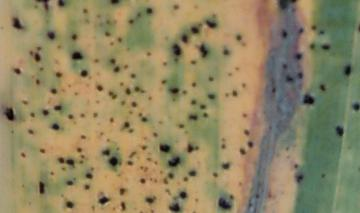tarspot: (217, 197, 231, 210), (11, 16, 23, 30), (4, 107, 15, 122), (35, 1, 50, 12), (167, 155, 180, 166), (172, 42, 182, 56), (303, 94, 315, 105), (37, 180, 46, 194), (71, 51, 83, 61), (200, 43, 208, 58), (334, 125, 344, 137), (158, 144, 171, 153), (108, 156, 118, 166), (206, 19, 217, 28), (169, 203, 180, 212), (46, 31, 56, 40), (278, 1, 289, 9), (98, 196, 109, 204), (51, 122, 60, 131), (238, 147, 247, 156), (84, 171, 93, 180), (33, 52, 41, 62), (181, 33, 189, 43), (221, 162, 231, 170), (352, 102, 360, 112), (188, 169, 198, 177), (179, 190, 187, 200), (128, 151, 137, 159), (231, 88, 239, 97), (321, 43, 330, 51), (345, 64, 351, 76), (318, 83, 326, 92), (146, 196, 155, 204), (283, 143, 291, 152), (239, 40, 248, 48), (52, 104, 62, 111), (189, 114, 199, 121), (187, 143, 193, 154), (66, 158, 74, 166), (80, 70, 88, 78), (145, 6, 153, 14), (172, 2, 180, 10), (234, 32, 241, 41), (267, 189, 273, 199), (14, 67, 21, 75), (58, 156, 65, 164), (55, 71, 62, 79), (66, 113, 74, 120), (71, 33, 78, 41), (96, 85, 104, 92), (108, 116, 115, 124), (199, 103, 207, 110), (220, 142, 227, 150), (243, 129, 251, 136), (285, 74, 293, 81), (164, 188, 172, 195), (140, 177, 147, 185), (119, 187, 126, 195), (66, 201, 74, 208), (121, 201, 126, 212), (112, 66, 121, 72), (170, 87, 179, 93), (190, 27, 199, 33), (34, 78, 41, 85), (22, 99, 29, 106), (51, 88, 58, 95), (104, 30, 111, 37), (131, 101, 138, 108), (128, 18, 135, 25), (161, 60, 168, 67), (295, 53, 302, 60), (293, 163, 300, 170), (297, 175, 304, 182), (212, 171, 219, 178), (168, 172, 175, 179), (57, 1, 65, 7), (103, 150, 111, 156), (124, 120, 130, 128), (188, 59, 196, 65), (282, 62, 288, 70), (229, 192, 235, 200), (163, 177, 169, 185), (156, 119, 164, 125), (91, 205, 97, 213), (207, 94, 216, 99), (183, 174, 188, 183), (30, 111, 36, 118), (20, 152, 27, 158), (39, 148, 46, 154), (76, 147, 83, 153), (80, 134, 87, 140), (43, 110, 49, 117), (126, 160, 133, 166), (125, 88, 131, 95), (135, 11, 142, 17), (142, 116, 148, 123), (141, 144, 148, 150), (152, 131, 158, 138), (194, 144, 200, 151), (161, 78, 167, 85), (178, 123, 185, 129), (223, 48, 229, 55), (271, 87, 277, 94), (254, 192, 260, 199), (67, 180, 74, 186), (158, 168, 164, 175), (142, 134, 148, 141), (20, 182, 26, 189), (121, 99, 126, 107), (283, 30, 288, 38), (298, 71, 303, 79), (28, 129, 34, 135), (79, 112, 85, 118), (93, 112, 99, 118), (56, 43, 62, 49), (110, 58, 116, 64), (108, 90, 114, 96), (123, 64, 129, 70), (119, 80, 125, 86), (115, 145, 121, 151), (128, 128, 134, 134), (146, 51, 152, 57), (153, 160, 159, 166), (202, 112, 208, 118), (191, 99, 197, 105), (191, 82, 197, 88), (208, 76, 214, 82), (242, 112, 248, 118), (311, 25, 317, 31), (318, 29, 324, 35), (84, 184, 90, 190), (171, 96, 177, 102), (10, 129, 16, 135), (61, 165, 66, 172), (79, 154, 86, 159), (94, 99, 101, 104), (93, 58, 100, 63), (67, 82, 72, 89), (131, 72, 136, 79), (146, 157, 153, 162), (181, 89, 188, 94), (248, 141, 253, 148), (299, 27, 304, 34), (321, 172, 326, 179), (194, 196, 199, 203), (111, 1, 119, 5), (39, 66, 45, 71), (74, 91, 79, 97), (83, 8, 88, 14), (106, 137, 111, 143), (99, 131, 105, 136), (118, 37, 123, 43), (134, 87, 140, 92), (147, 96, 153, 101), (173, 57, 179, 62), (221, 136, 226, 142), (241, 83, 247, 88), (235, 65, 240, 71), (310, 43, 315, 49), (50, 170, 55, 176), (238, 180, 243, 186), (154, 177, 158, 184), (37, 46, 42, 51), (29, 50, 34, 55), (79, 159, 84, 164), (112, 95, 117, 100), (110, 41, 115, 46), (129, 110, 134, 115), (140, 89, 145, 94), (138, 112, 143, 117), (139, 165, 144, 170), (224, 92, 229, 97), (228, 72, 233, 77), (112, 206, 117, 211), (106, 19, 110, 25), (290, 1, 298, 4), (151, 208, 155, 213), (150, 177, 154, 181), (359, 23, 360, 32), (140, 210, 142, 213)
